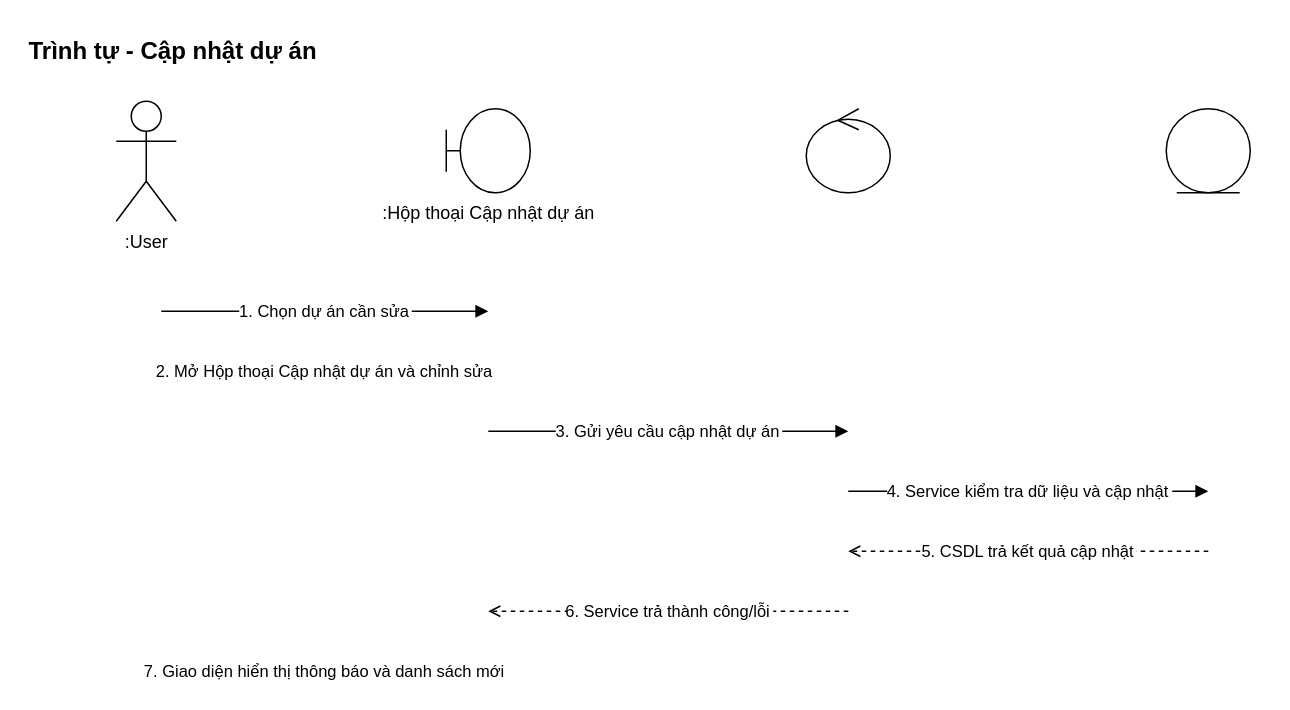
The diagram is 1290 pixels wide and 710 high, and some of its shapes have lost their labels. The shapes that lost their labels are listed below. From the top down, each one's centre as x and y in pixels, then its label:
At (x=847, y=150): ":Project Service".
At (x=1207, y=150): ":CSDL Project".
